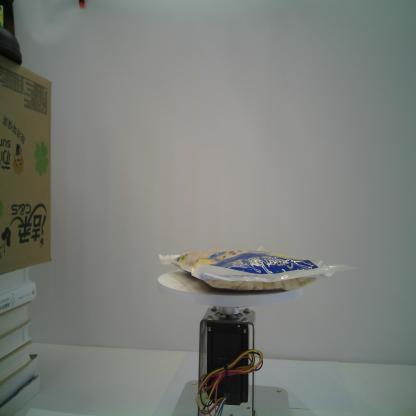Dried Fruit: (158, 247, 351, 291)
